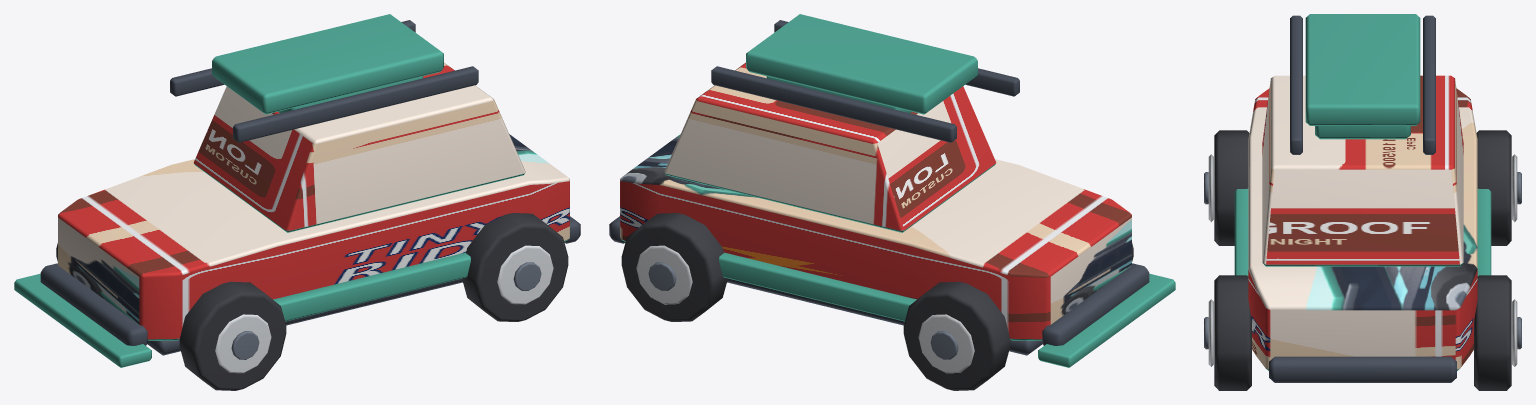
3 views of the same model, side by side, from view 1: azimuth 30°, elevation 25°; view 2: azimuth 150°, elevation 25°; view 3: azimuth 270°, elevation 25° (orthographic). The views are drawn at different scales.
Visible parts, largest first — view 1: RR-02_connected_shell, RR-02_cabin, utility load, Tire, Tire.002, utility rail, custom side guard, custom chin, front bumper, Rim, Rim.002, underbody (+3 smaller); view 2: RR-02_connected_shell, RR-02_cabin, utility load, Tire.001, Tire.003, utility rail.001, custom side guard.001, custom chin, front bumper, Rim.001, Rim.003, underbody (+3 smaller); view 3: RR-02_cabin, RR-02_connected_shell, utility load, rear bumper, Tire.002, Tire.003, Tire, Tire.001, utility rail, utility rail.001, custom equipment, custom side guard (+5 smaller).
Boxes of the visible parts, bbox=[...] form: RR-02_connected_shell: bbox=[58, 134, 569, 340]; RR-02_cabin: bbox=[193, 62, 525, 232]; utility load: bbox=[212, 14, 443, 114]; Tire: bbox=[179, 281, 286, 390]; Tire.002: bbox=[462, 213, 568, 321]; utility rail: bbox=[233, 66, 478, 142]; custom side guard: bbox=[273, 252, 470, 321]; custom chin: bbox=[14, 273, 151, 367]; front bumper: bbox=[40, 263, 148, 345]; Rim: bbox=[215, 314, 271, 373]; Rim.002: bbox=[497, 245, 553, 304]; underbody: bbox=[147, 278, 462, 355]; RR-02_connected_shell: bbox=[620, 134, 1131, 340]; RR-02_cabin: bbox=[664, 62, 996, 232]; utility load: bbox=[746, 14, 977, 114]; Tire.001: bbox=[903, 281, 1010, 390]; Tire.003: bbox=[621, 213, 727, 321]; utility rail.001: bbox=[711, 66, 956, 142]; custom side guard.001: bbox=[719, 252, 916, 321]; custom chin: bbox=[1038, 273, 1175, 367]; front bumper: bbox=[1041, 263, 1149, 345]; Rim.001: bbox=[918, 314, 974, 373]; Rim.003: bbox=[636, 245, 692, 304]; underbody: bbox=[727, 278, 1042, 355]; RR-02_cabin: bbox=[1262, 75, 1463, 266]; RR-02_connected_shell: bbox=[1248, 88, 1477, 370]; utility load: bbox=[1305, 14, 1420, 125]; rear bumper: bbox=[1269, 356, 1456, 382]; Tire.002: bbox=[1214, 275, 1251, 390]; Tire.003: bbox=[1474, 275, 1511, 390]; Tire: bbox=[1214, 130, 1249, 245]; Tire.001: bbox=[1476, 130, 1511, 245]; utility rail: bbox=[1290, 15, 1302, 154]; utility rail.001: bbox=[1423, 15, 1435, 154]; custom equipment: bbox=[1315, 126, 1410, 139]; custom side guard: bbox=[1234, 188, 1248, 276].
Size of the model in its own units: 395 by 199 by 219.
